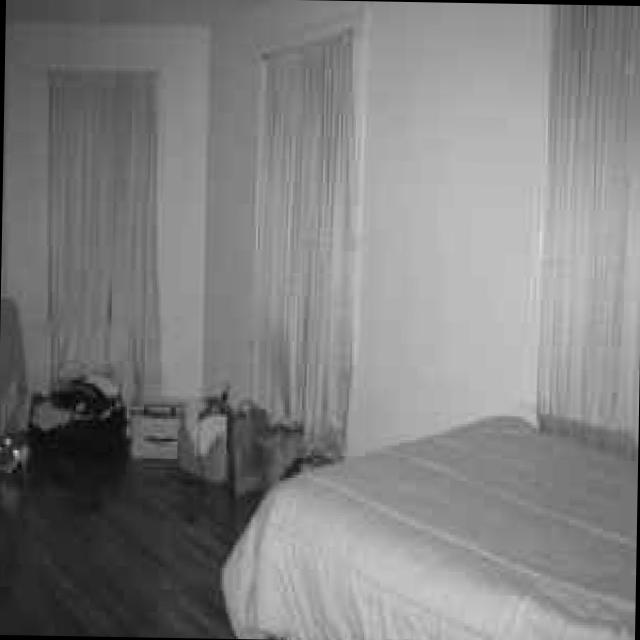bag occluded: (233, 411, 267, 493), (258, 414, 295, 485)
bed frame: (226, 413, 635, 640)
ceiling beam: (9, 0, 253, 24)
curtain crop: (250, 26, 351, 458), (540, 14, 639, 446), (49, 65, 162, 406)
floor -X: (0, 438, 634, 640)
wall clock: (342, 1, 556, 510), (4, 27, 214, 447), (196, 0, 368, 504), (535, 4, 640, 523)
